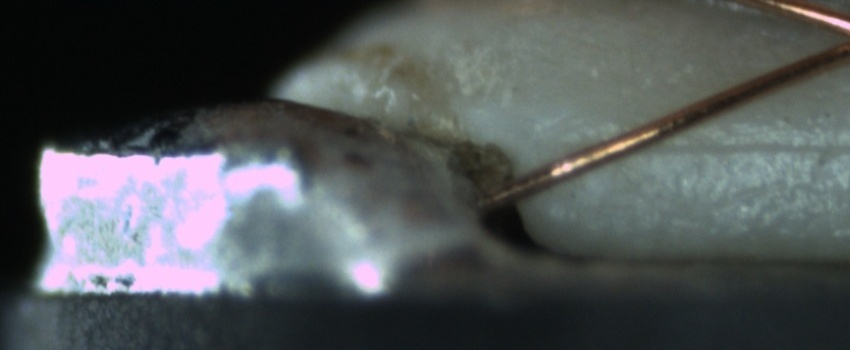DL: (632, 114, 850, 175)
